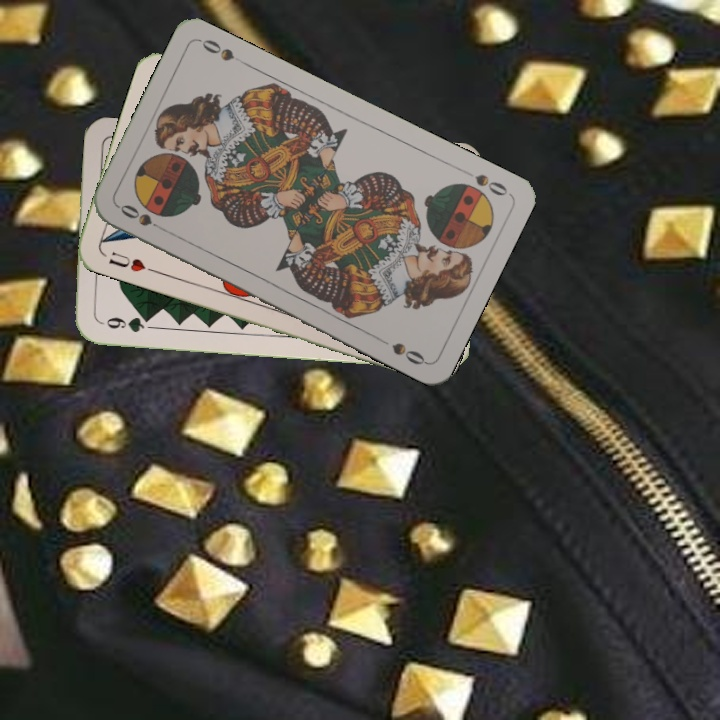G9: (102, 313, 155, 335)
HU: (105, 247, 157, 275)
SO: (114, 200, 170, 235), (471, 170, 511, 199)
